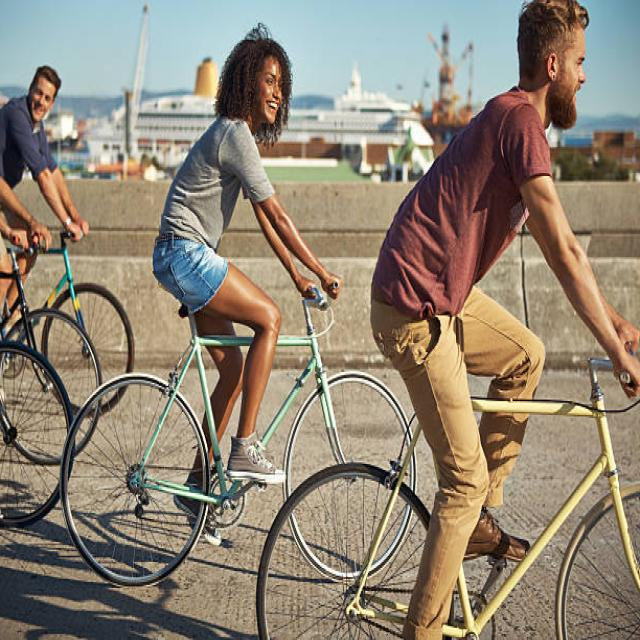bicycle: (258, 0, 640, 639), (61, 31, 409, 583)
